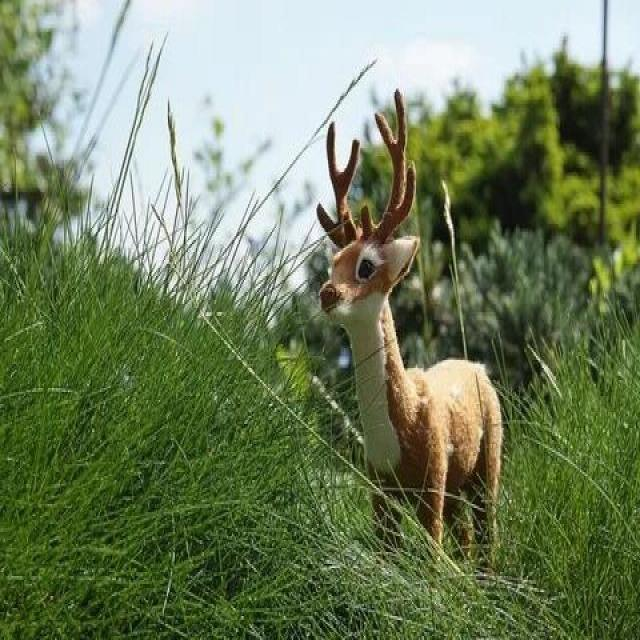deer: (280, 126, 545, 586)
